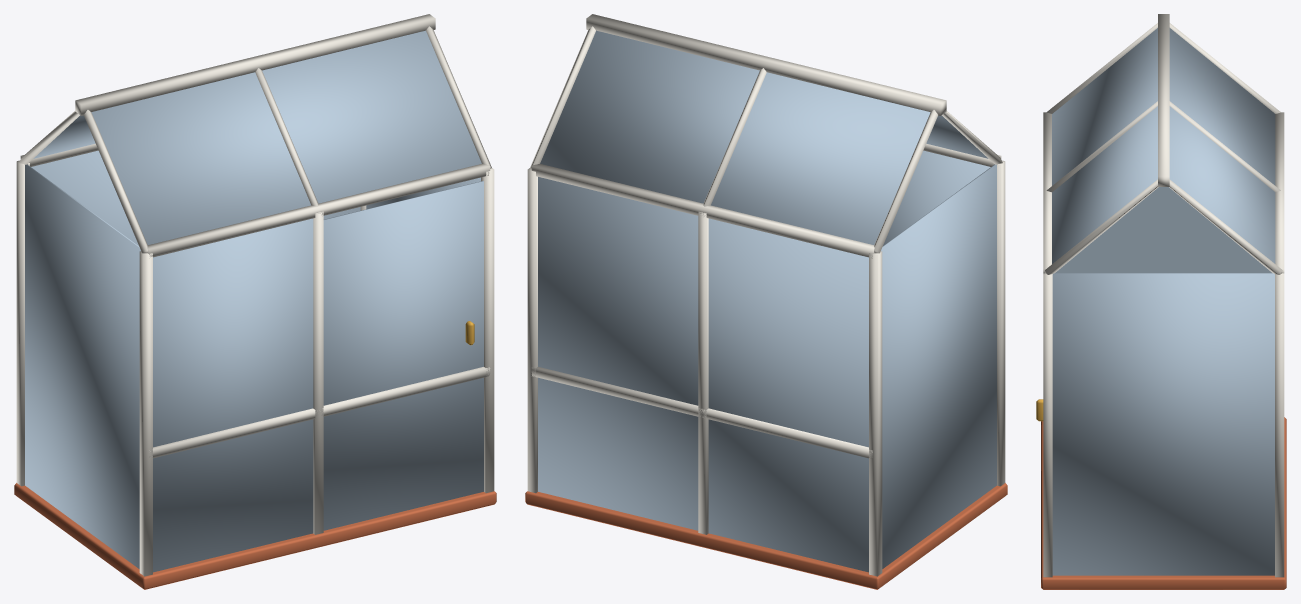
File: greenhouse.glb
3 views of the same model, side by side, from view 1: azimuth 30°, elevation 25°; view 2: azimuth 150°, elevation 25°; view 3: azimuth 270°, elevation 25° (orthographic). The views are drawn at different scales.
Parts seen in each view (by area): view 1: greenhouse, door; view 2: greenhouse; view 3: greenhouse.
Boxes of the visible parts, x1,y1,x2,y2 form: greenhouse: [14, 14, 496, 589]; door: [323, 181, 483, 530]; greenhouse: [525, 14, 1007, 589]; greenhouse: [1041, 14, 1286, 589].
Bounding box in the file's own units: 1.66 × 1.98 × 1.08.
